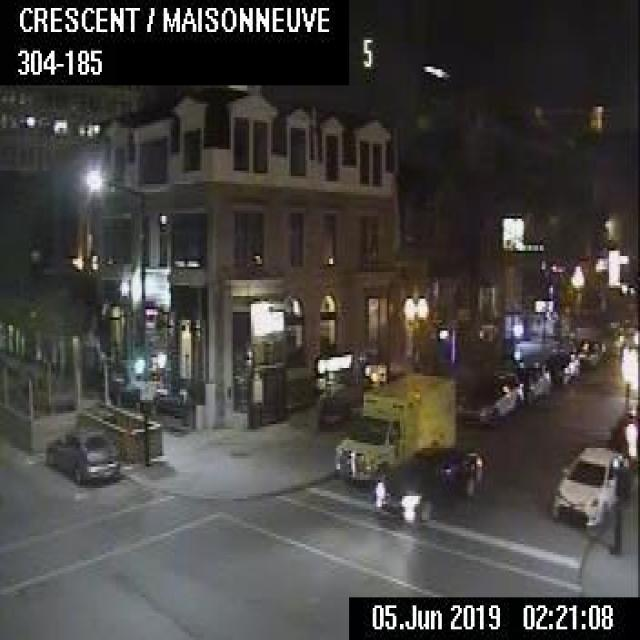vehicle: (333, 369, 454, 488), (375, 444, 485, 522), (551, 443, 629, 528), (43, 424, 120, 486), (454, 369, 522, 425), (608, 408, 638, 468), (509, 360, 550, 403), (542, 349, 578, 383), (576, 337, 604, 367)
